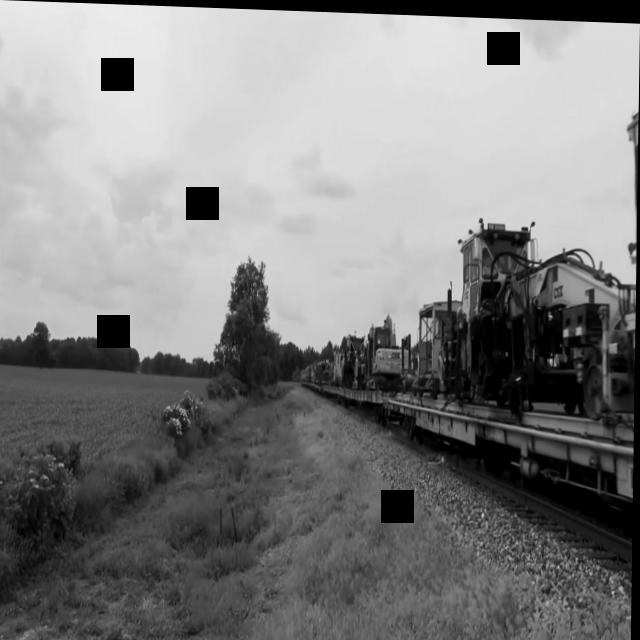cargo: (449, 186, 638, 414), (411, 289, 465, 393), (366, 306, 416, 391)
flatcar: (381, 386, 636, 546)
